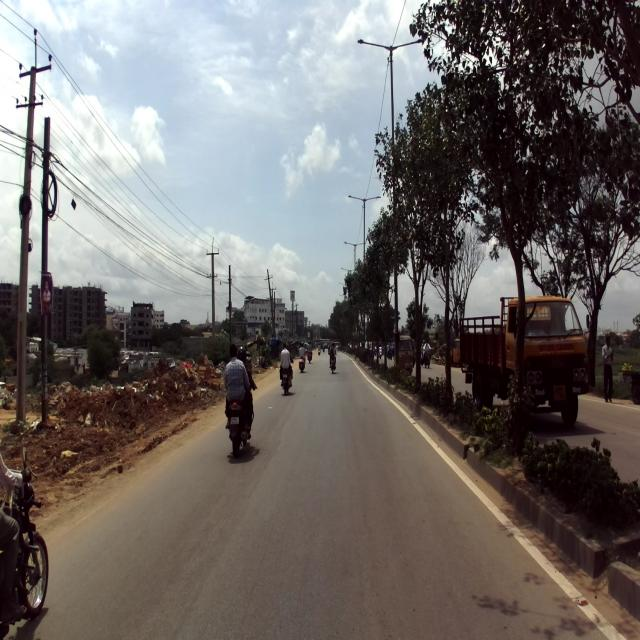motorcycle_HeroHonda: (225, 381, 258, 458)
motorcycle_TVS: (0, 446, 47, 636)
truck: (457, 292, 592, 433)
